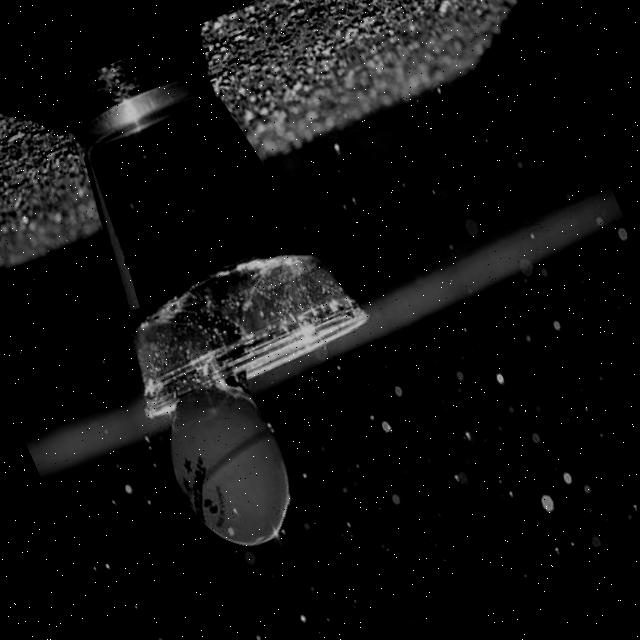ping-pong-ball: (140, 362, 316, 571)
